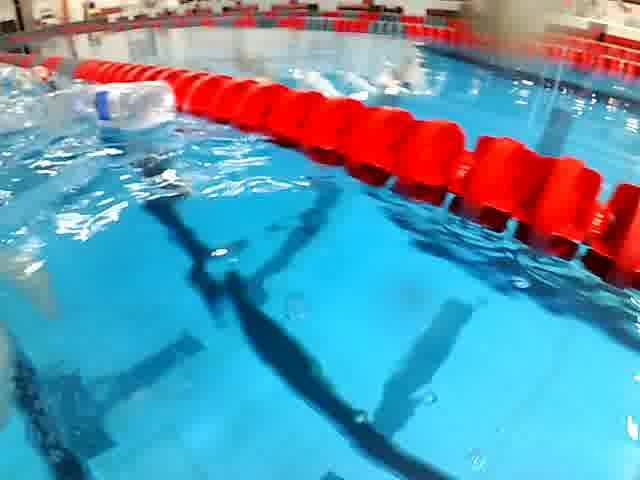Bottle: (39, 78, 181, 136)
